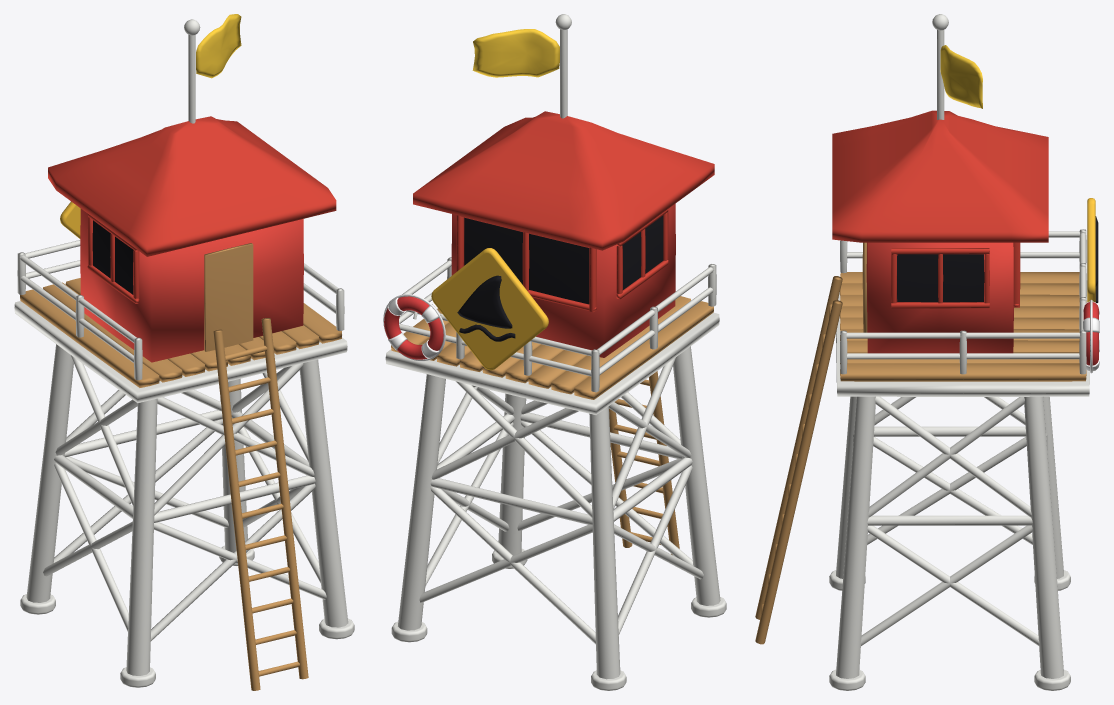
Rendered from SharkBaitHut.obj.
3 views of the same model, side by side, from view 1: azimuth 30°, elevation 25°; view 2: azimuth 150°, elevation 25°; view 3: azimuth 270°, elevation 25° (orthographic). The views are drawn at different scales.
Parts seen in each view (by area): view 1: Stilts, Roof, Ladder, Cabin, Flag, SignMark, Sign; view 2: Stilts, Roof, Ladder, SignMark, Cabin, Sign, Flag, Float, FloatStripe; view 3: Stilts, Roof, Ladder, Cabin, SignMark, Flag, Sign, Float, FloatStripe.
Part boxes in pixels (left/top/right/bottom): Stilts: left=14, top=19, right=354, bottom=687; Roof: left=48, top=116, right=336, bottom=303; Ladder: left=20, top=243, right=341, bottom=690; Cabin: left=80, top=208, right=303, bottom=362; Flag: left=196, top=14, right=241, bottom=78; SignMark: left=92, top=220, right=133, bottom=294; Sign: left=60, top=201, right=80, bottom=238; Stilts: left=385, top=14, right=726, bottom=690; Roof: left=413, top=111, right=714, bottom=312; Ladder: left=391, top=296, right=713, bottom=554; SignMark: left=457, top=215, right=663, bottom=341; Cabin: left=451, top=203, right=675, bottom=357; Sign: left=431, top=248, right=548, bottom=370; Flag: left=472, top=29, right=559, bottom=77; Float: left=384, top=296, right=443, bottom=359; FloatStripe: left=383, top=294, right=445, bottom=361; Stilts: left=829, top=14, right=1089, bottom=690; Roof: left=832, top=110, right=1048, bottom=308; Ladder: left=755, top=242, right=1086, bottom=644; Cabin: left=866, top=242, right=1013, bottom=353; SignMark: left=897, top=216, right=1098, bottom=303; Flag: left=940, top=45, right=982, bottom=108; Sign: left=1087, top=198, right=1095, bottom=301; Float: left=1083, top=302, right=1098, bottom=365; FloatStripe: left=1083, top=299, right=1099, bottom=373.
Size of the model in its own units: 7.16 by 18 by 9.07.
